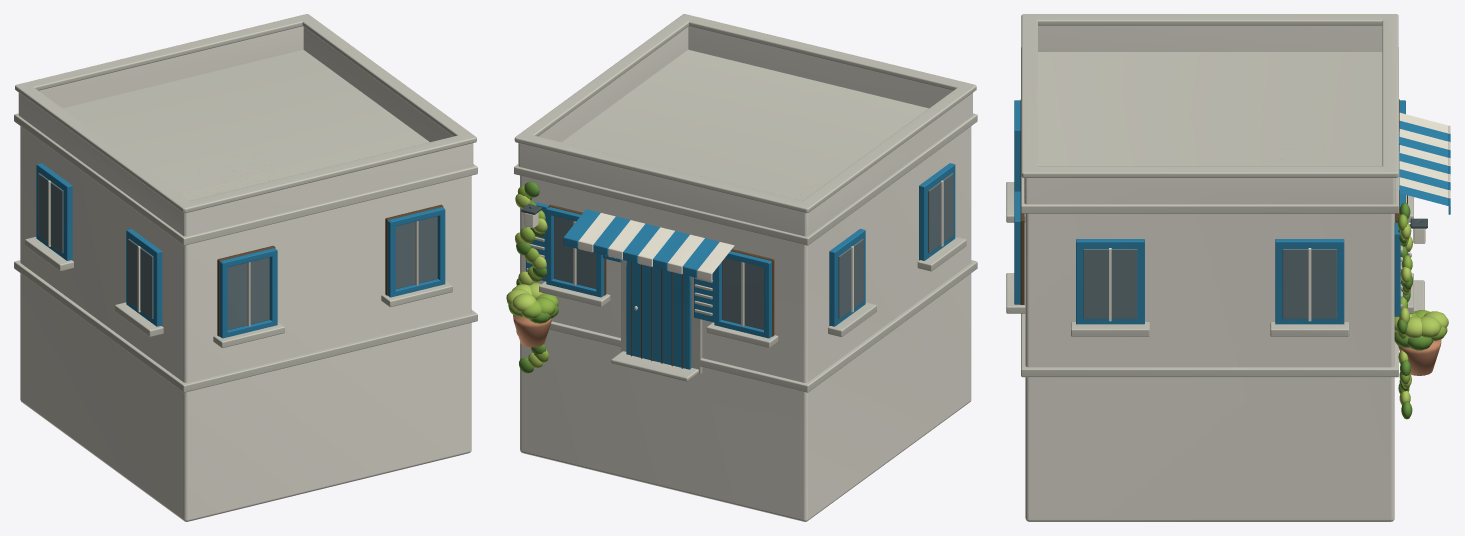
The model's file is town_house_1_0.glb.
3 renders of one model, left to right at view 1: azimuth 30°, elevation 25°; view 2: azimuth 150°, elevation 25°; view 3: azimuth 270°, elevation 25°, orthographic. The views are drawn at different scales.
Visible parts, largest first — view 1: TownHouse1_0_Geometry; view 2: TownHouse1_0_Geometry; view 3: TownHouse1_0_Geometry.
Boxes of the visible parts, <box> form: TownHouse1_0_Geometry: <box>14,14,477,521</box>; TownHouse1_0_Geometry: <box>506,14,977,521</box>; TownHouse1_0_Geometry: <box>1006,14,1450,521</box>.
Size of the model in its own units: 6.62 by 6.31 by 7.22.
